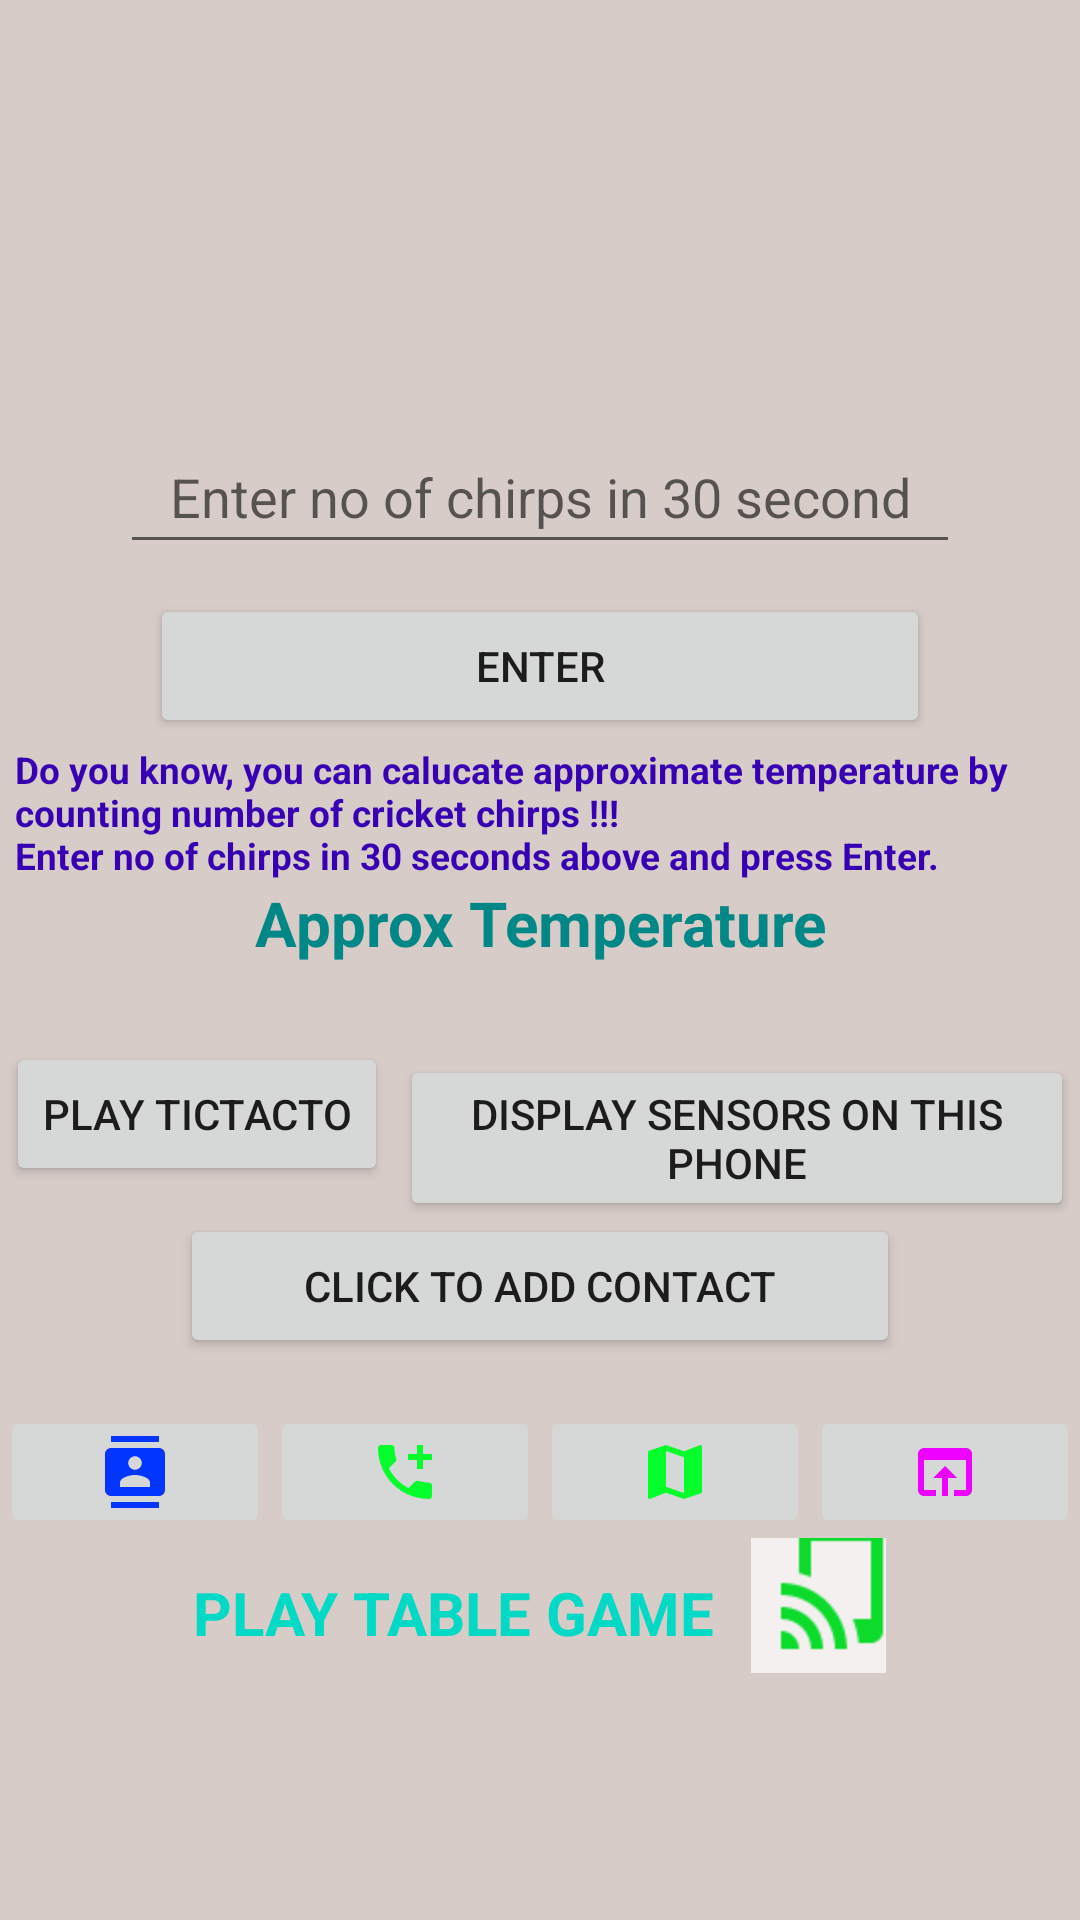

Point at icon controls on the screen. Image size 1080 × 1920, points as point (x, y).
contacts: point (135, 1472)
map: point (675, 1472)
open in browser: point (945, 1472)
